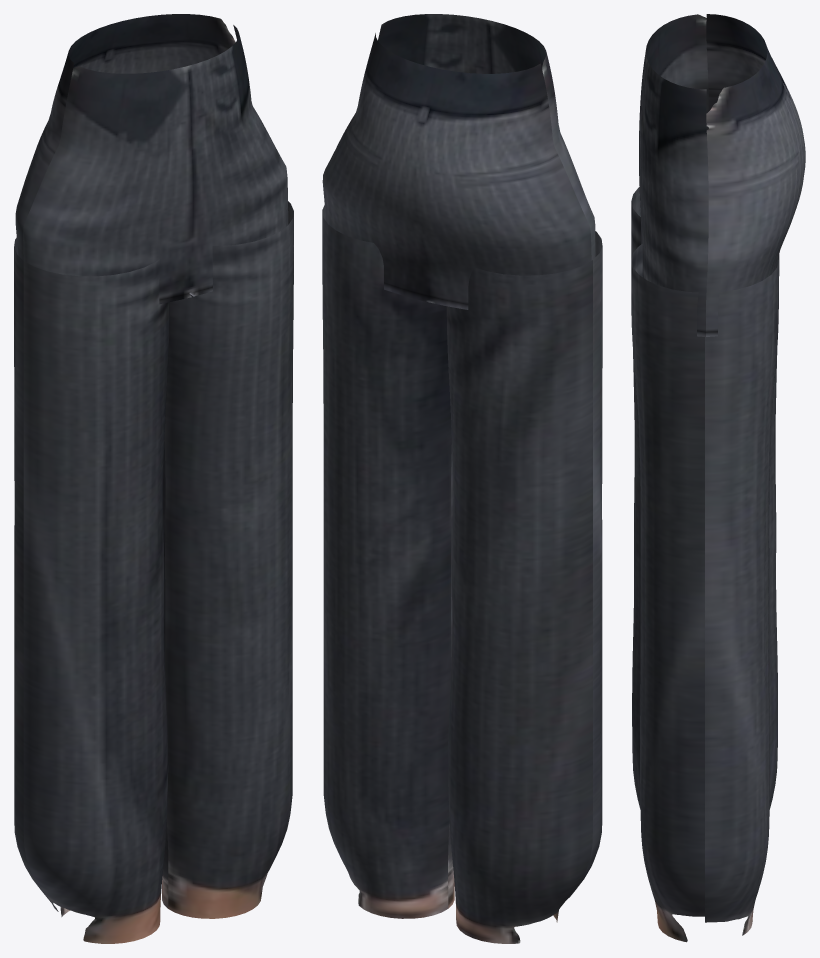
Rendered from prod-ae-charcoal-pinstripe-trousers.glb.
The picture shows the model from 3 angles, left to right: view 1: azimuth 30°, elevation 25°; view 2: azimuth 150°, elevation 25°; view 3: azimuth 270°, elevation 25°; orthographic projection. The views are drawn at different scales.
Visible parts, largest first — view 1: prod-ae-charcoal-pinstripe-trousers; view 2: prod-ae-charcoal-pinstripe-trousers; view 3: prod-ae-charcoal-pinstripe-trousers.
Part boxes in pixels (x1,y1,x2,y2): prod-ae-charcoal-pinstripe-trousers: [14, 14, 293, 943]; prod-ae-charcoal-pinstripe-trousers: [322, 14, 602, 943]; prod-ae-charcoal-pinstripe-trousers: [631, 14, 805, 942].
Size of the model in its own units: 0.2836 by 0.9008 by 0.1686.
1 material, 1 textured.
